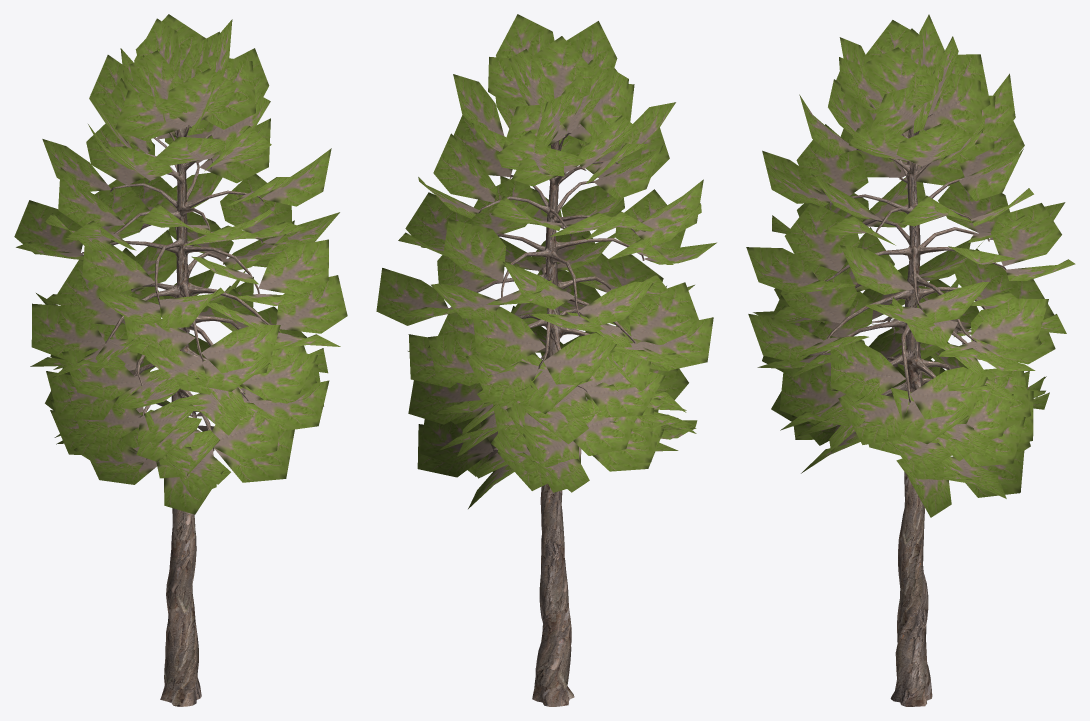
The model's file is PineTree.fbx.
3 views of the same model, side by side, from view 1: azimuth 30°, elevation 25°; view 2: azimuth 150°, elevation 25°; view 3: azimuth 270°, elevation 25° (orthographic).
Visible parts, largest first — view 1: tree; view 2: tree; view 3: tree.
Boxes of the visible parts, x1,y1,x2,y2 form: tree: (14, 14, 347, 706); tree: (376, 14, 716, 706); tree: (746, 14, 1075, 706).
Bounding box in the file's own units: 35659 × 80440 × 35504.
2 materials, 2 textured.
